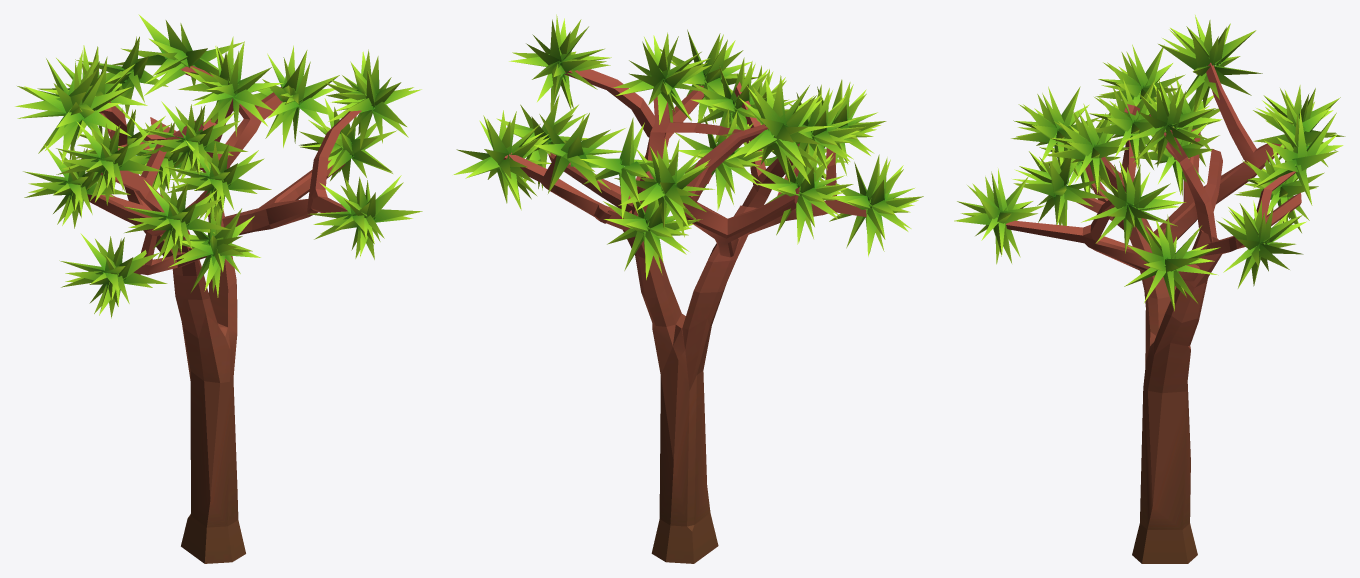
The picture shows the model from 3 angles, left to right: view 1: azimuth 30°, elevation 25°; view 2: azimuth 150°, elevation 25°; view 3: azimuth 270°, elevation 25°; orthographic projection. The views are drawn at different scales.
Visible parts, largest first — view 1: JoshuaTree2; view 2: JoshuaTree2; view 3: JoshuaTree2.
Boxes of the visible parts, x1,y1,x2,y2 form: JoshuaTree2: [15, 14, 422, 563]; JoshuaTree2: [453, 14, 923, 563]; JoshuaTree2: [954, 15, 1345, 563].
Size of the model in its own units: 233 by 300 by 222.
Materials: 1 (1 with a texture image).
